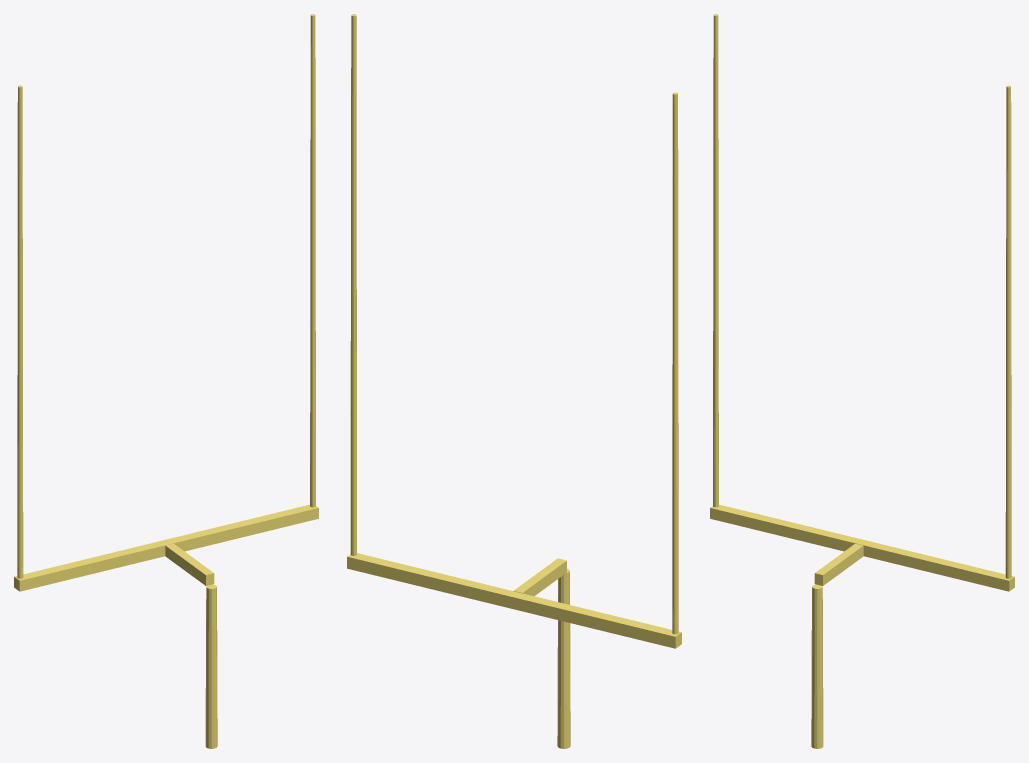
File: football-goalpost.glb
3 views of the same model, side by side, from view 1: azimuth 30°, elevation 25°; view 2: azimuth 150°, elevation 25°; view 3: azimuth 330°, elevation 25° (orthographic). The views are drawn at different scales.
Parts seen in each view (by area): view 1: football-goalpost; view 2: football-goalpost; view 3: football-goalpost.
Part boxes in pixels (x1=…): football-goalpost: x1=14, y1=14, x2=318, y2=748; football-goalpost: x1=347, y1=14, x2=681, y2=748; football-goalpost: x1=710, y1=14, x2=1014, y2=748.
Size of the model in its own units: 0.4721 by 1 by 0.1393.
